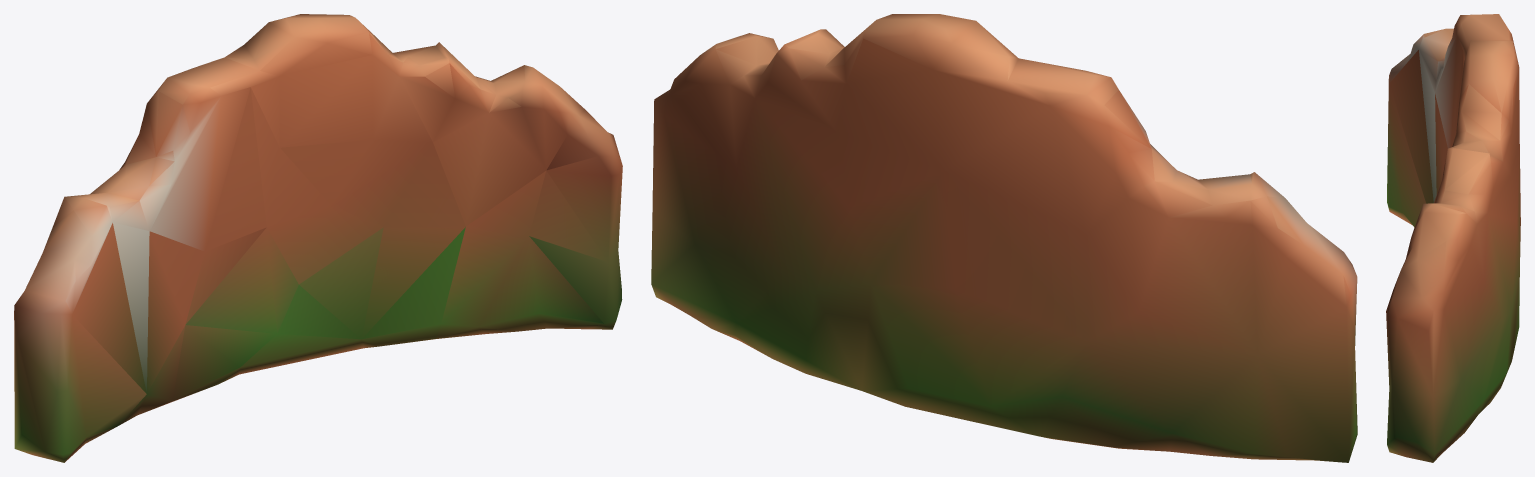
File: canopy_pot_shard_lod2.glb
3 renders of one model, left to right at view 1: azimuth 30°, elevation 25°; view 2: azimuth 150°, elevation 25°; view 3: azimuth 270°, elevation 25°, orthographic. The views are drawn at different scales.
Visible parts, largest first — view 1: canopy_pot_shard.001; view 2: canopy_pot_shard.001; view 3: canopy_pot_shard.001.
Part boxes in pixels (box(x1,y1,x2,y2)): canopy_pot_shard.001: box(14, 14, 622, 462); canopy_pot_shard.001: box(651, 14, 1357, 462); canopy_pot_shard.001: box(1386, 14, 1520, 462).
Bounding box in the file's own units: 6.49 × 3.41 × 1.4.
